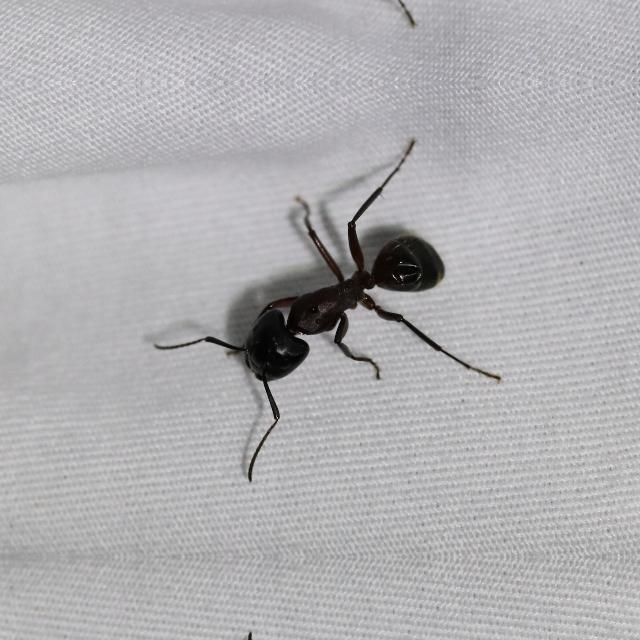Camponotus: (185, 194, 479, 420)
